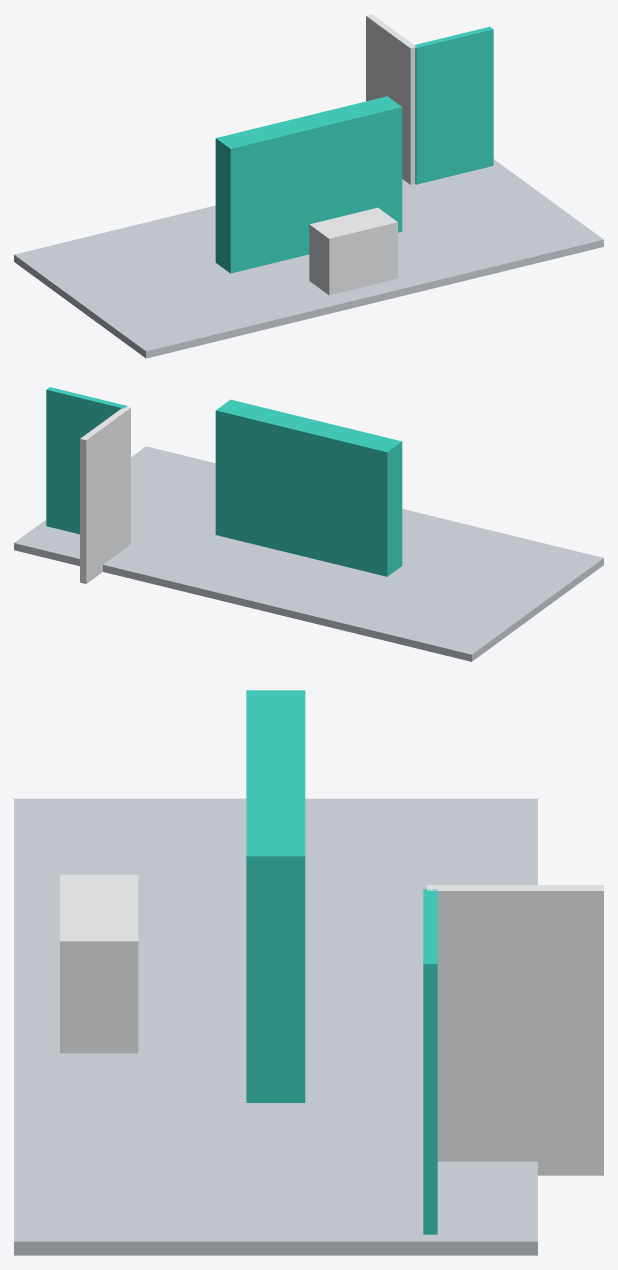
The picture shows the model from 3 angles, top to bottom: view 1: azimuth 30°, elevation 25°; view 2: azimuth 150°, elevation 25°; view 3: azimuth 270°, elevation 25°; orthographic projection. The views are drawn at different scales.
Visible parts, largest first — view 1: Exhibition Booth Concept; view 2: Exhibition Booth Concept; view 3: Exhibition Booth Concept.
Part boxes in pixels (<box>): Exhibition Booth Concept: <box>14,14,603,358</box>; Exhibition Booth Concept: <box>14,387,603,661</box>; Exhibition Booth Concept: <box>14,690,603,1255</box>.
Bounding box in the file's own units: 8 × 2.4 × 4.51.
